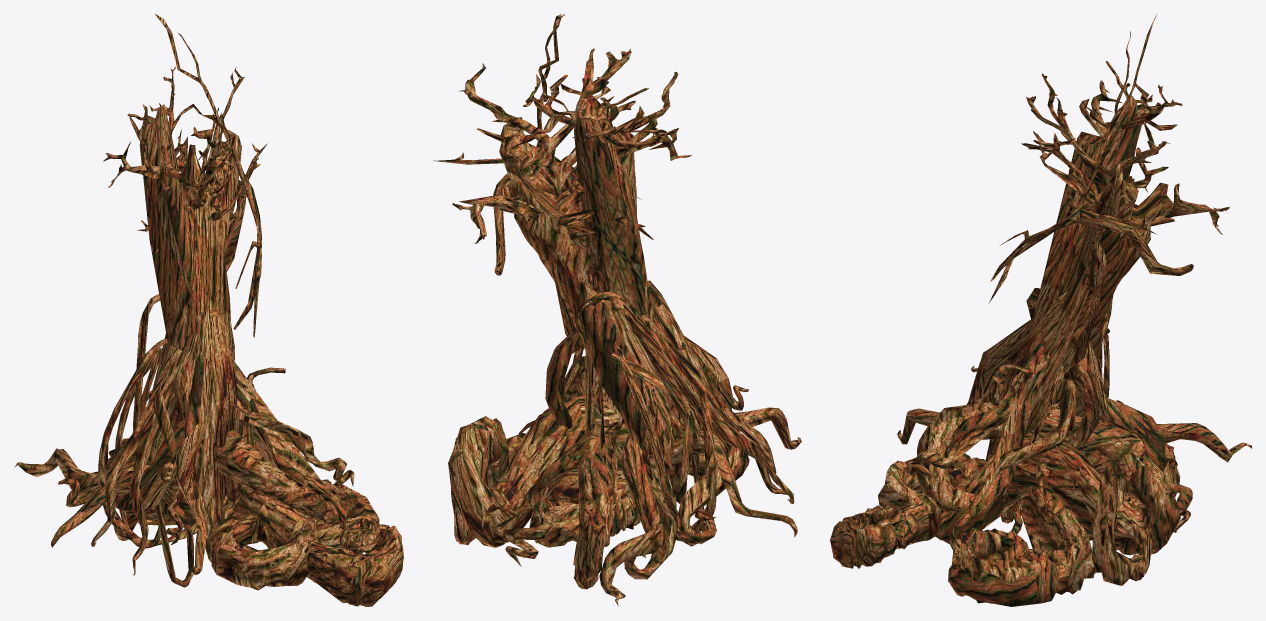
File: 2worldtree.two.trunk.glb
3 views of the same model, side by side, from view 1: azimuth 30°, elevation 25°; view 2: azimuth 150°, elevation 25°; view 3: azimuth 270°, elevation 25° (orthographic). The views are drawn at different scales.
Parts seen in each view (by area): view 1: plant.001; view 2: plant.001; view 3: plant.001.
Boxes of the visible parts, left/top/right/bottom form: plant.001: left=14, top=14, right=403, bottom=606; plant.001: left=433, top=14, right=801, bottom=606; plant.001: left=830, top=14, right=1251, bottom=606.
Size of the model in its own units: 1.09 by 1.76 by 1.27.
1 material, 1 textured.
